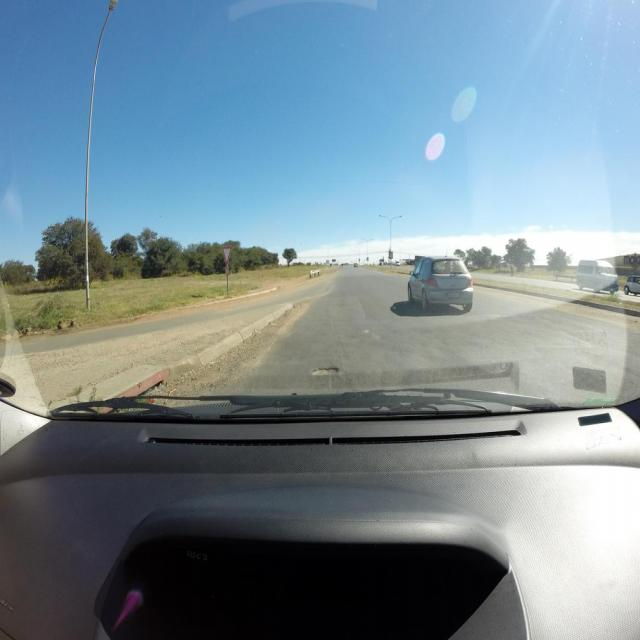Pothole: (311, 368, 338, 377)
